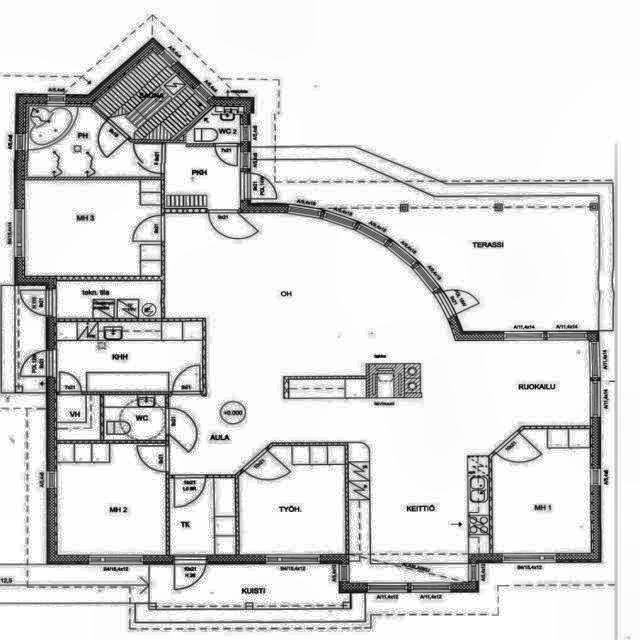room: (25, 180, 160, 276), (492, 431, 591, 552), (58, 443, 165, 554), (239, 446, 345, 554), (58, 322, 202, 389), (29, 107, 162, 178), (171, 478, 235, 554), (166, 144, 240, 208), (57, 280, 160, 318), (105, 395, 165, 439), (55, 394, 101, 440)
